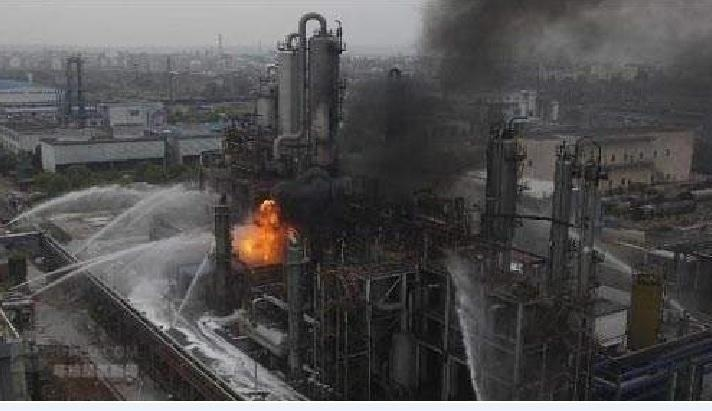fire: (228, 196, 296, 264)
